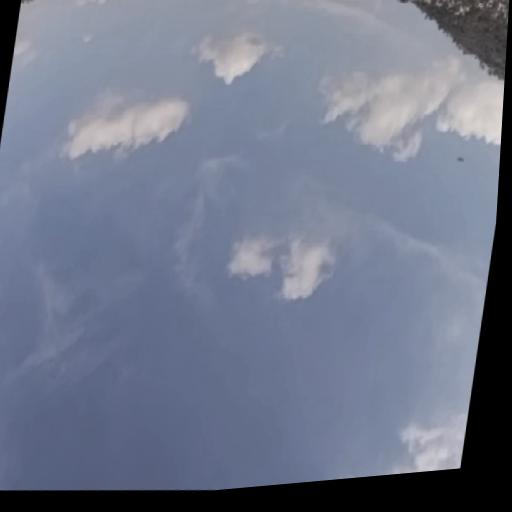drones: (451, 150, 470, 169)
